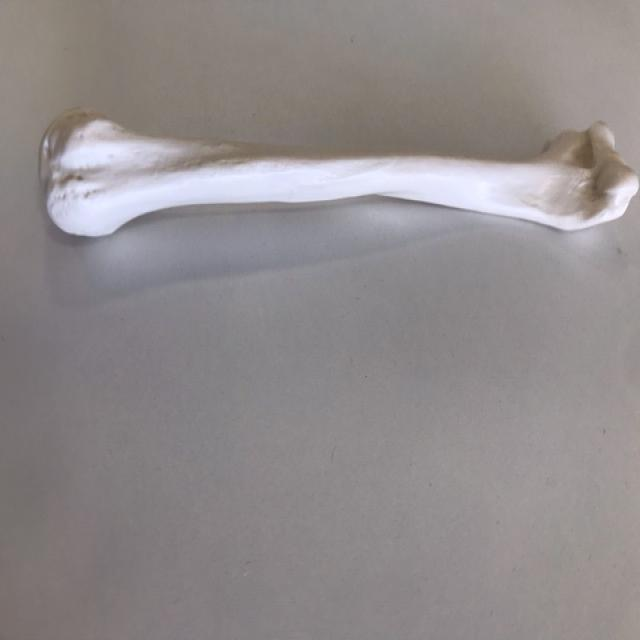bone: (36, 100, 640, 247)
